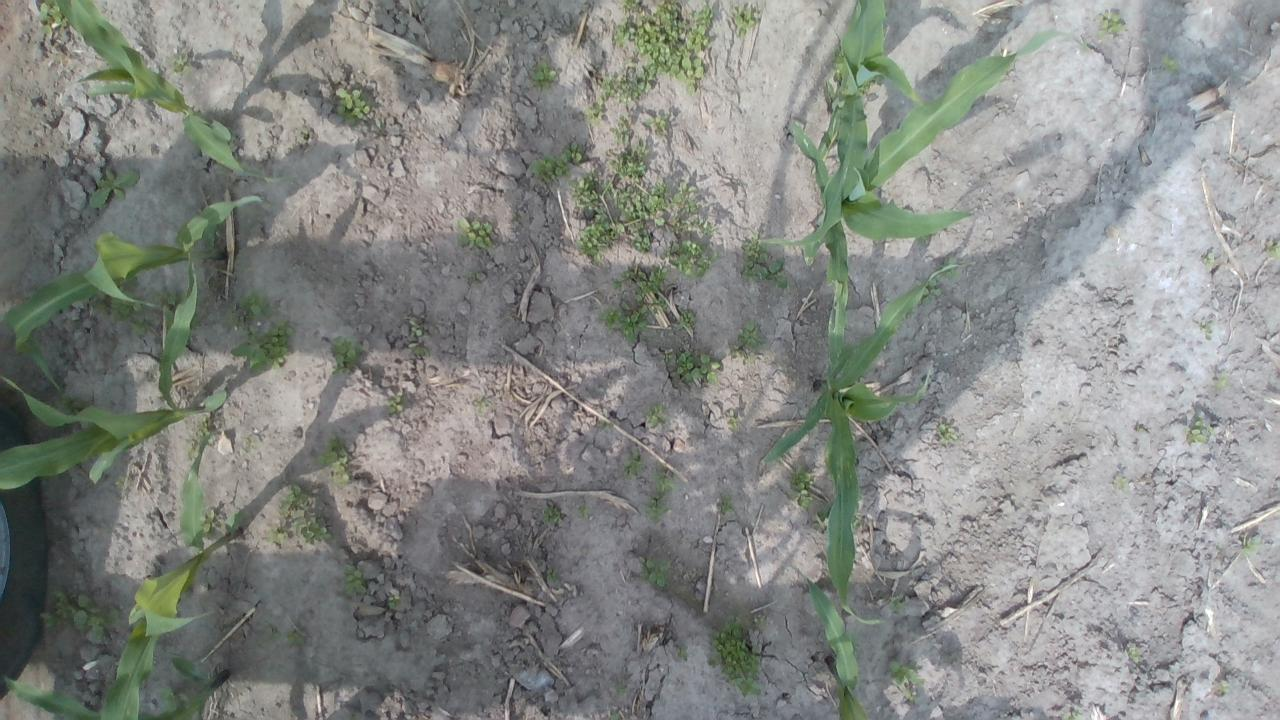Maize: (758, 257, 976, 624), (746, 30, 1060, 252), (0, 254, 229, 494), (3, 197, 266, 388), (54, 0, 304, 187), (96, 405, 242, 720), (808, 0, 925, 172), (2, 656, 230, 720), (802, 572, 869, 720)
Weeds: (599, 0, 714, 107), (566, 172, 671, 266), (70, 278, 188, 336), (222, 286, 296, 376), (706, 610, 762, 696), (44, 586, 122, 640), (277, 482, 332, 545), (740, 229, 791, 290), (610, 263, 668, 310), (663, 238, 722, 278), (598, 301, 651, 345), (662, 350, 721, 385), (530, 141, 582, 180), (90, 166, 138, 208), (604, 140, 650, 182), (158, 678, 206, 714), (318, 436, 352, 485), (730, 320, 766, 366), (888, 660, 923, 702), (334, 88, 374, 124), (332, 335, 364, 375), (455, 217, 493, 249), (639, 557, 675, 590), (790, 464, 816, 509), (730, 3, 760, 41), (1095, 8, 1128, 40), (669, 214, 714, 237), (669, 182, 702, 213), (578, 96, 608, 129), (530, 58, 560, 91), (1184, 416, 1218, 445), (39, 0, 67, 34), (340, 562, 366, 594), (644, 494, 672, 522), (24, 322, 48, 354), (52, 394, 86, 415), (608, 116, 630, 146), (644, 402, 668, 426), (672, 310, 698, 332), (652, 472, 678, 494), (170, 50, 192, 75), (622, 456, 644, 481), (916, 279, 942, 300), (272, 630, 304, 647), (936, 256, 960, 278), (642, 112, 671, 130), (814, 503, 832, 531), (935, 422, 959, 443), (199, 508, 217, 535), (408, 318, 432, 338), (266, 528, 288, 548), (384, 394, 406, 414), (802, 246, 824, 266), (542, 505, 562, 526), (1242, 535, 1260, 558), (196, 416, 211, 443), (831, 47, 842, 82), (408, 343, 434, 356), (576, 503, 594, 521), (890, 596, 907, 615), (1198, 318, 1214, 338), (718, 495, 735, 513), (471, 398, 489, 415), (183, 444, 200, 461), (1162, 57, 1178, 74), (545, 568, 560, 586), (726, 410, 738, 432), (462, 269, 482, 282), (1266, 240, 1280, 258), (598, 179, 614, 194), (1216, 679, 1232, 693), (1214, 374, 1228, 390), (240, 435, 256, 449), (1113, 474, 1126, 490), (1202, 253, 1214, 270), (1063, 711, 1083, 720), (614, 686, 628, 698), (852, 513, 862, 529), (388, 596, 400, 608), (676, 647, 688, 656), (609, 711, 621, 720), (1128, 647, 1138, 657)
